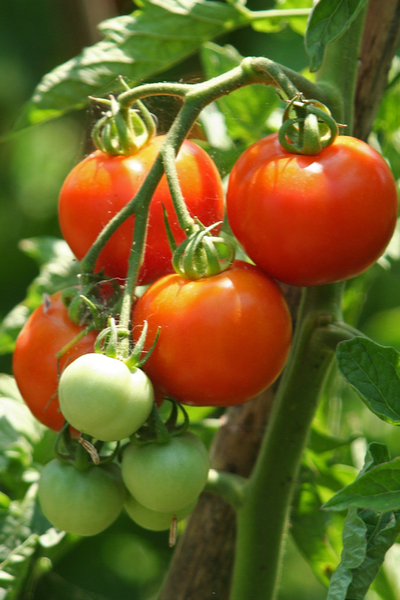tomato: (231, 111, 400, 283)
